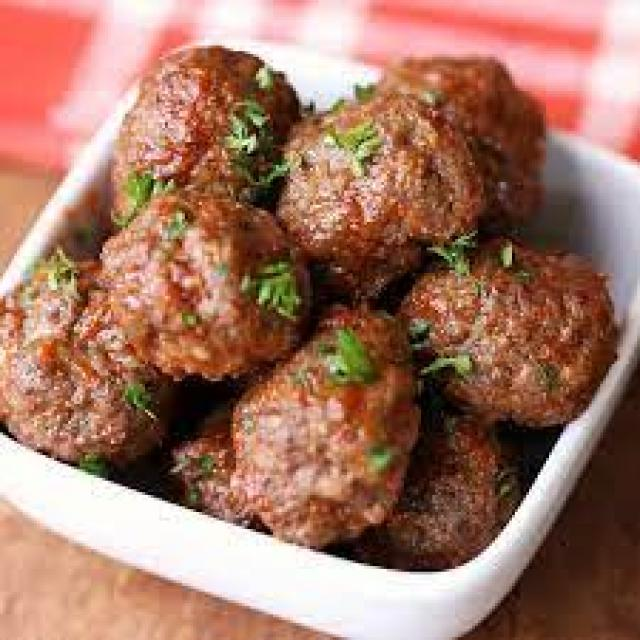Meatball: (205, 320, 424, 544), (396, 220, 623, 424), (91, 188, 310, 382), (275, 90, 482, 293), (0, 253, 188, 464), (109, 34, 308, 210)
